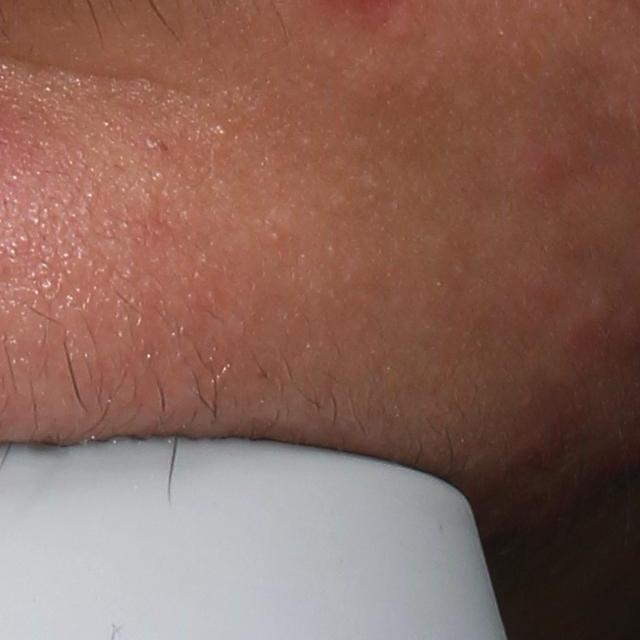papule: (516, 140, 577, 210)
